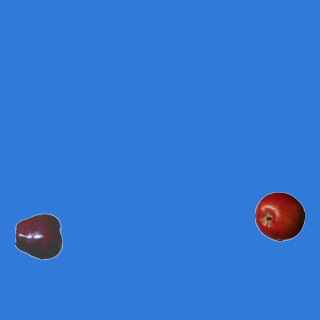Apple Braeburn: (254, 191, 304, 241)
Apple Red Delicious: (14, 211, 64, 261)
